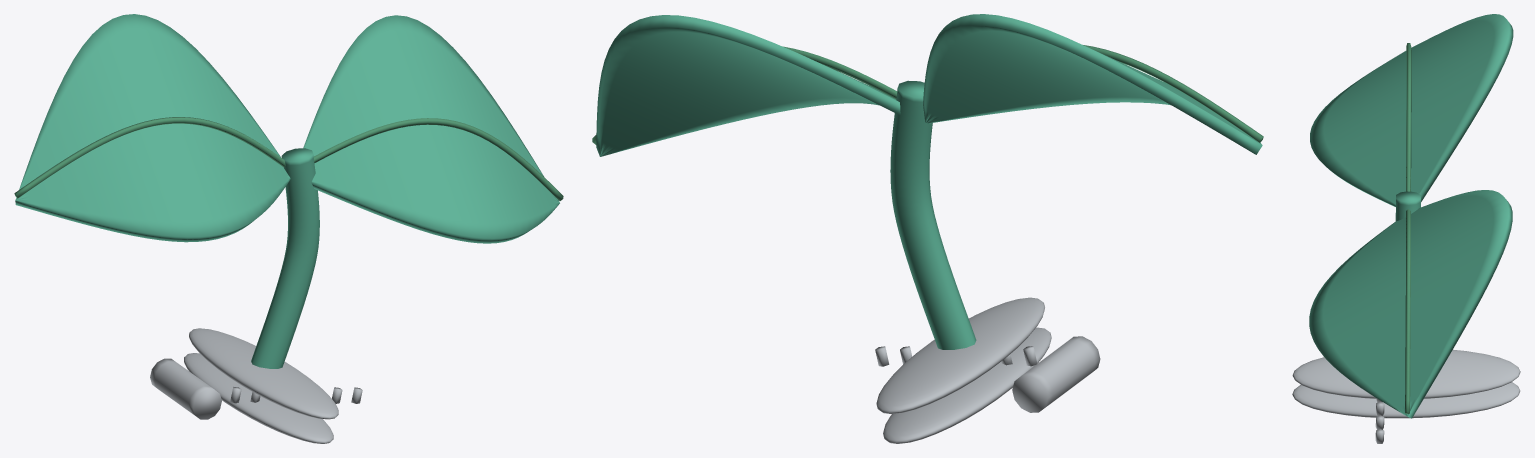
File: Masculine-flow-pashmina250-sprout.glb
3 renders of one model, left to right at view 1: azimuth 30°, elevation 25°; view 2: azimuth 150°, elevation 25°; view 3: azimuth 270°, elevation 25°, orthographic. The views are drawn at different scales.
Parts seen in each view (by area): view 1: 226 extra / Accessory / mint226, 226 extra / Sprout / clip silver235, 226 extra / Sprout / leaf vein235; view 2: 226 extra / Accessory / mint226, 226 extra / Sprout / clip silver235, 226 extra / Sprout / leaf vein235; view 3: 226 extra / Accessory / mint226, 226 extra / Sprout / clip silver235, 226 extra / Sprout / leaf vein235.
Boxes of the visible parts, x1,y1,x2,y2 form: 226 extra / Accessory / mint226: (15,14,559,368); 226 extra / Sprout / clip silver235: (150,328,362,443); 226 extra / Sprout / leaf vein235: (14,117,563,200); 226 extra / Accessory / mint226: (596,14,1262,349); 226 extra / Sprout / clip silver235: (875,297,1100,443); 226 extra / Sprout / leaf vein235: (592,45,1263,144); 226 extra / Accessory / mint226: (1309,14,1513,418); 226 extra / Sprout / clip silver235: (1292,349,1520,443); 226 extra / Sprout / leaf vein235: (1405,43,1411,413).
Bounding box in the file's own units: 0.2644 × 0.1737 × 0.104.
